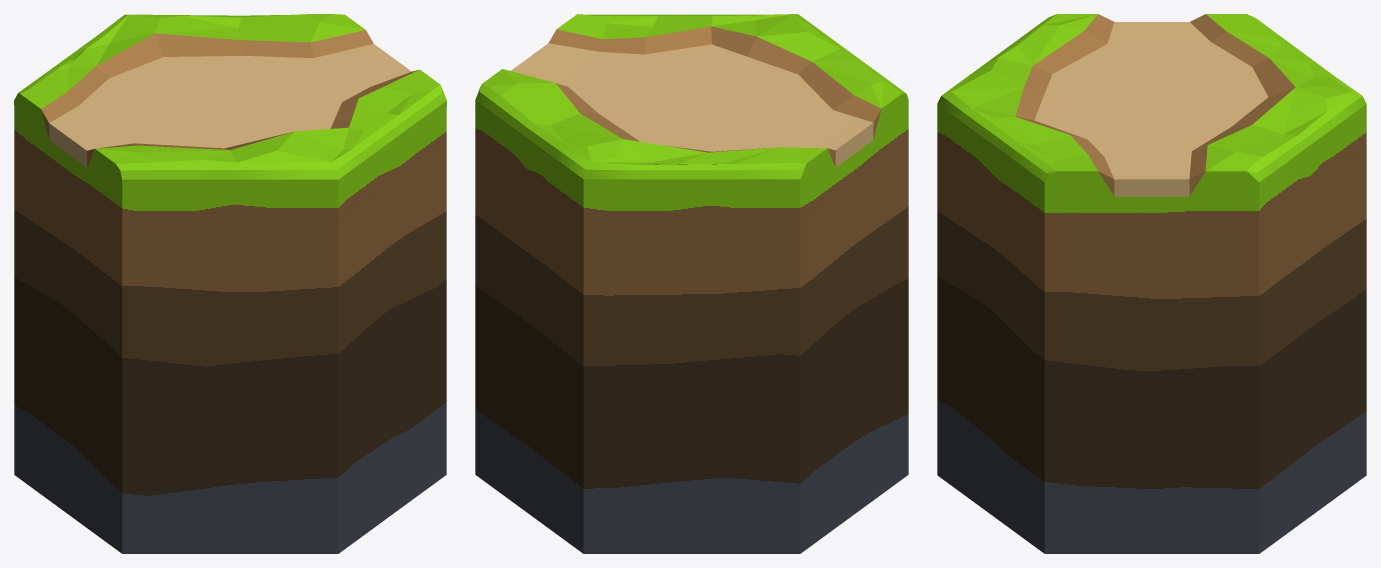
The model's file is HexTilePath_Straight2.glb.
3 views of the same model, side by side, from view 1: azimuth 30°, elevation 25°; view 2: azimuth 150°, elevation 25°; view 3: azimuth 270°, elevation 25° (orthographic).
Parts seen in each view (by area): view 1: HexTilePath_Straight2; view 2: HexTilePath_Straight2; view 3: HexTilePath_Straight2.
Part boxes in pixels (<box>): HexTilePath_Straight2: <box>14,14,446,553</box>; HexTilePath_Straight2: <box>475,14,908,553</box>; HexTilePath_Straight2: <box>937,14,1366,553</box>.
Size of the model in its own units: 1.73 by 2 by 2.
Materials: 1 (1 with a texture image).
